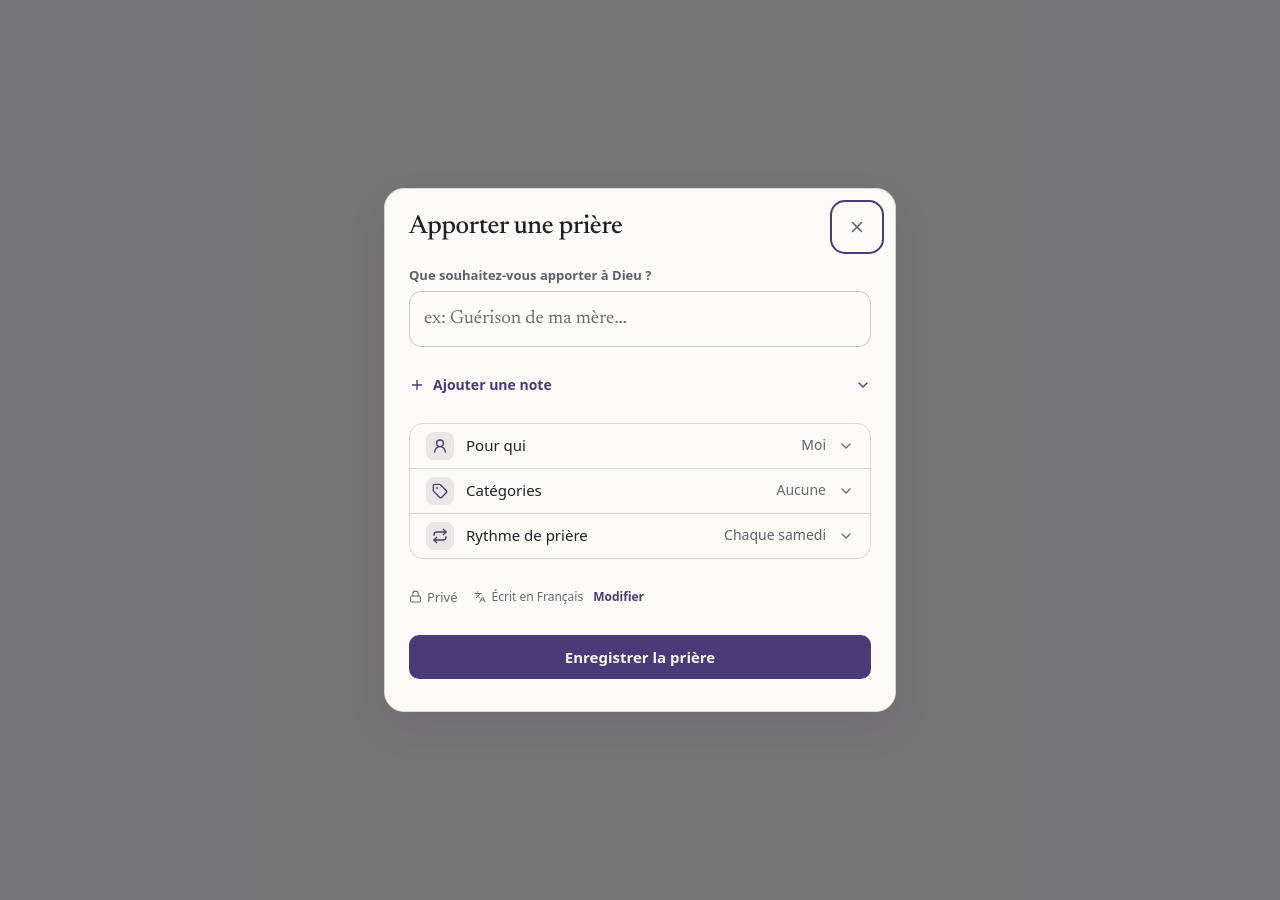
it: PrayerForm — Quick Add › opens one detail at a time: who it is for, its labels, its rhythm
The width and height of the screenshot is (1280, 900).
Click the button "Pour qui Moi" at (496, 445), box x1=410 y1=424 x2=870 y2=468
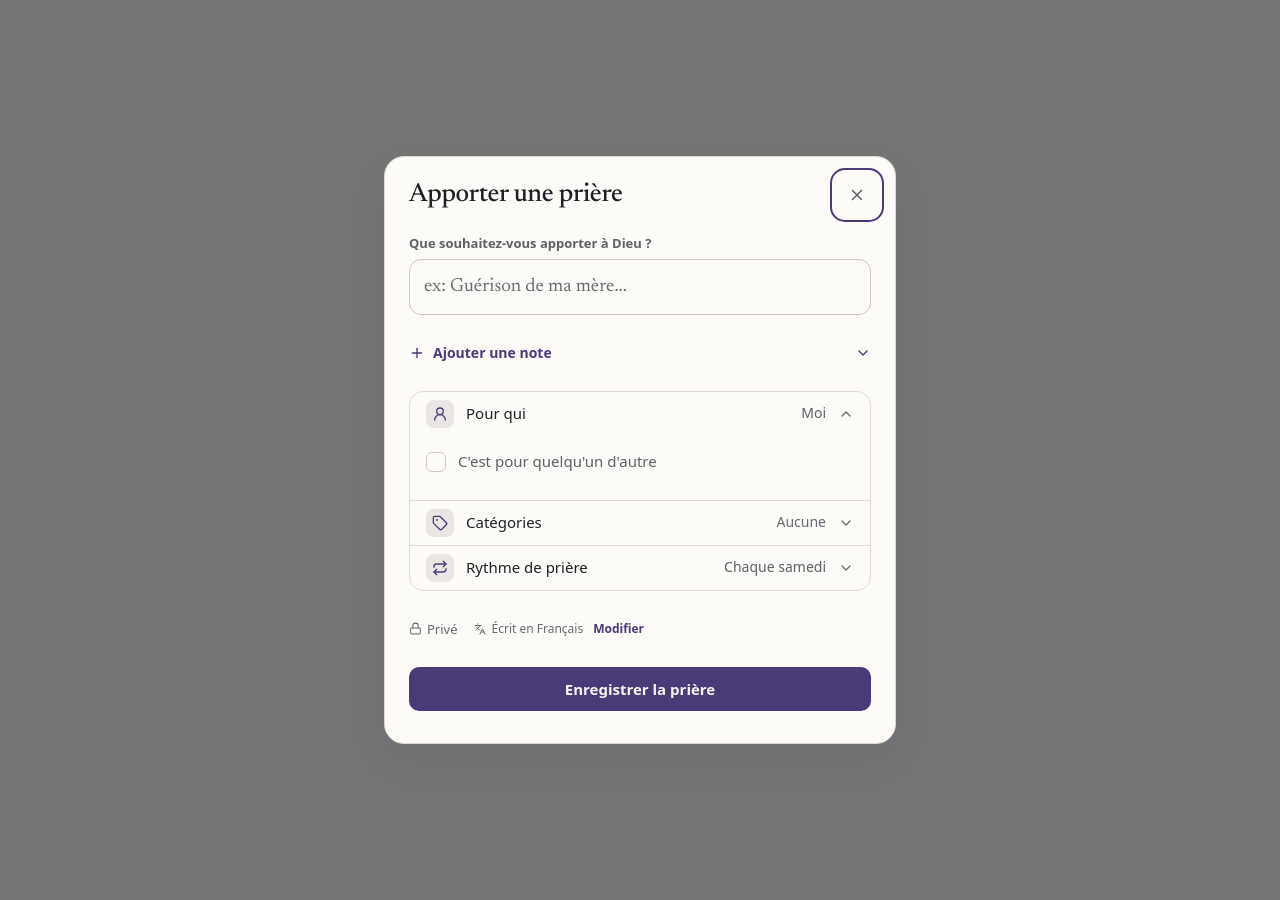
Now the text "C'est pour quelqu'un d'autre" is shown, box x1=458 y1=450 x2=657 y2=474
// Opening the labels folds the person away again.
Click the button "Catégories Aucune" at (504, 522), box x1=410 y1=501 x2=870 y2=545
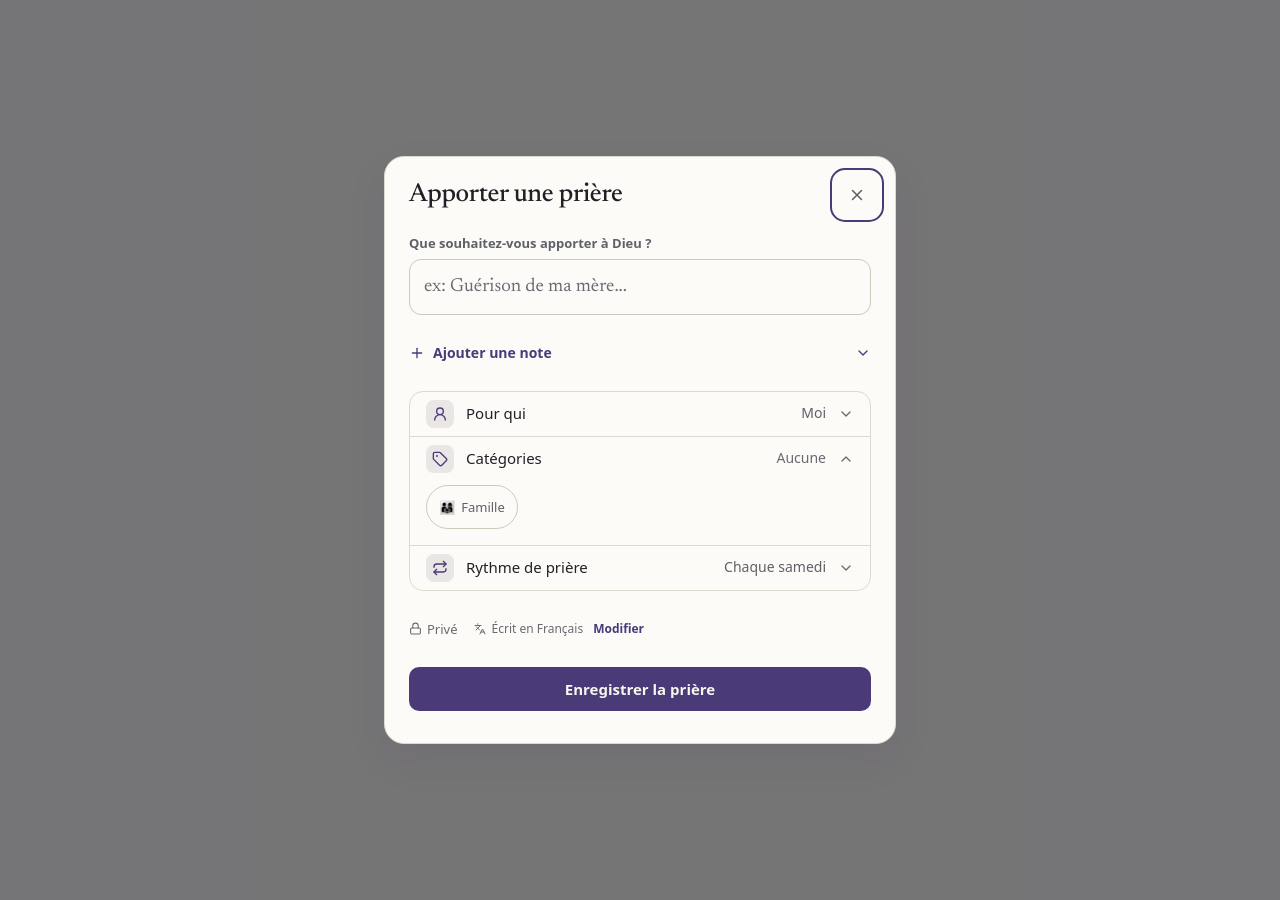
Now the text "C'est pour quelqu'un d'autre" is gone
Click the button "👨‍👩‍👧 Famille" at (472, 507), box x1=426 y1=485 x2=518 y2=529
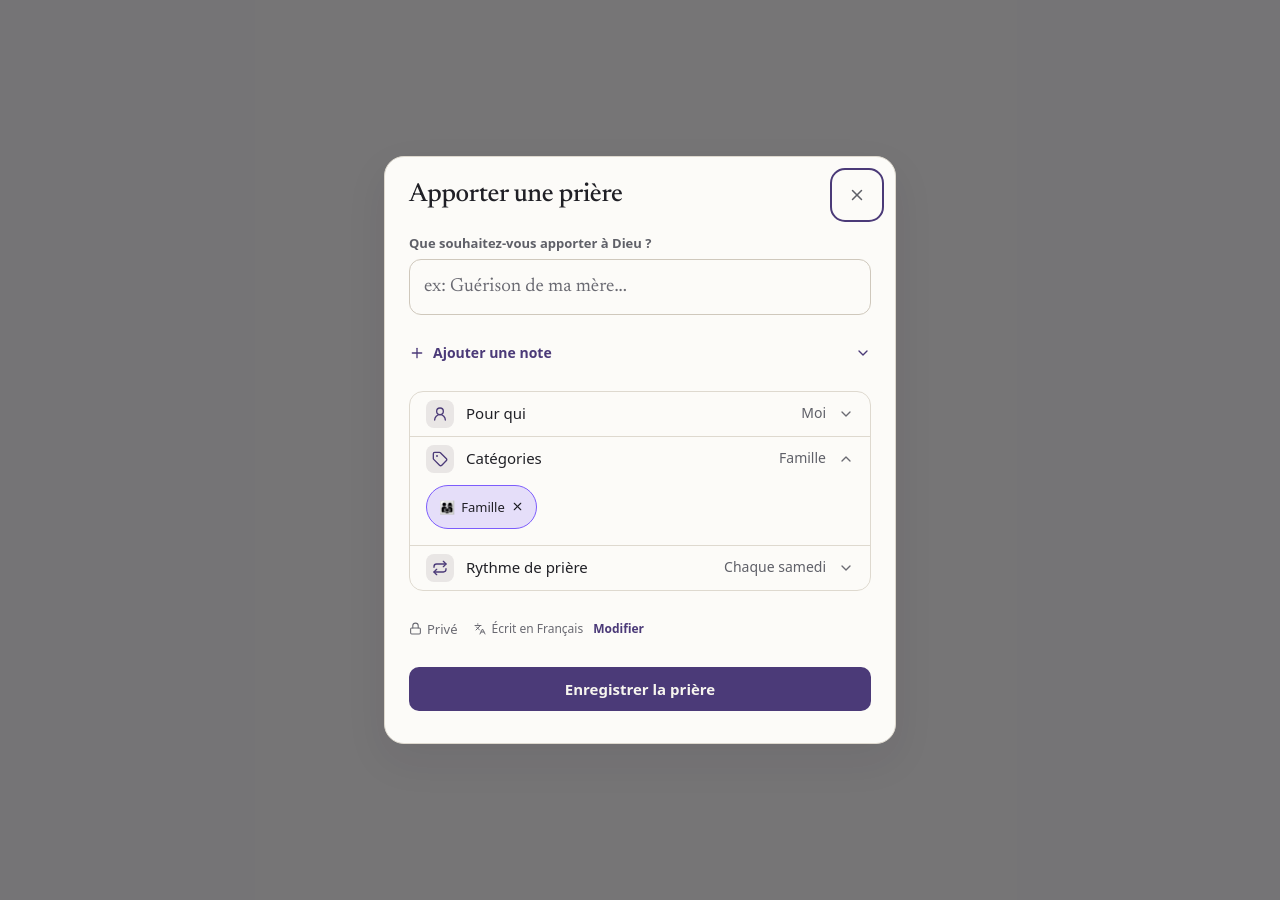
Expected: the text "À quelle fréquence souhaitez-vous revenir à cette prière ?" is not shown
Now the button "👨‍👩‍👧 Famille" is pressed, box x1=426 y1=485 x2=537 y2=529
Click the button "Rythme de prière Chaque samedi" at (527, 567), box x1=410 y1=546 x2=870 y2=590
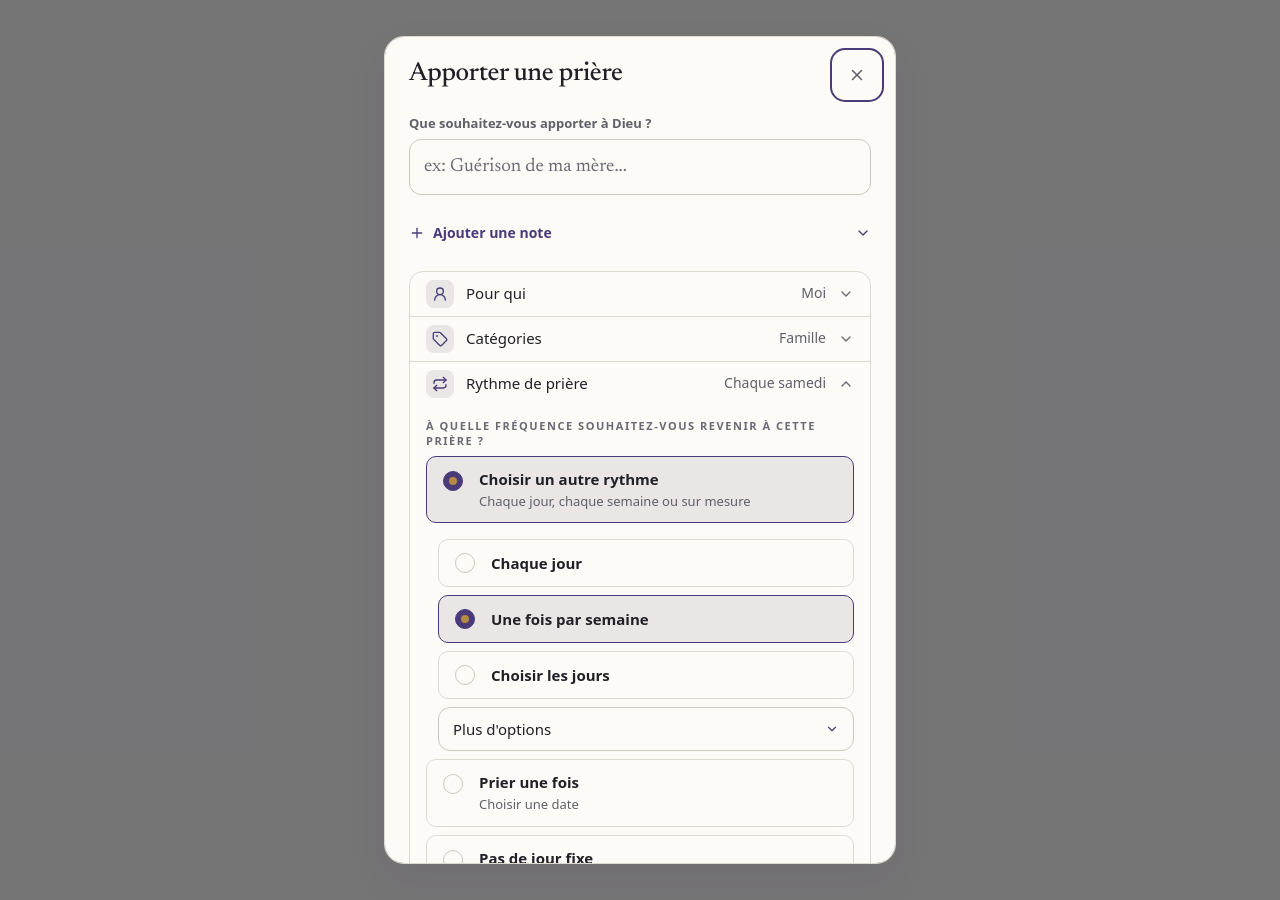
Now the text "À quelle fréquence souhaitez-vous revenir à cette prière ?" is shown, box x1=426 y1=418 x2=854 y2=448
